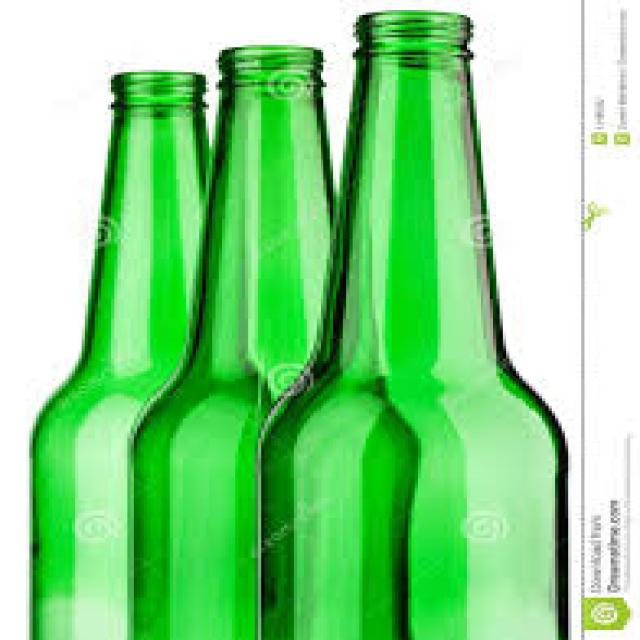glass: (251, 10, 565, 637), (124, 43, 336, 638), (33, 70, 209, 638)
